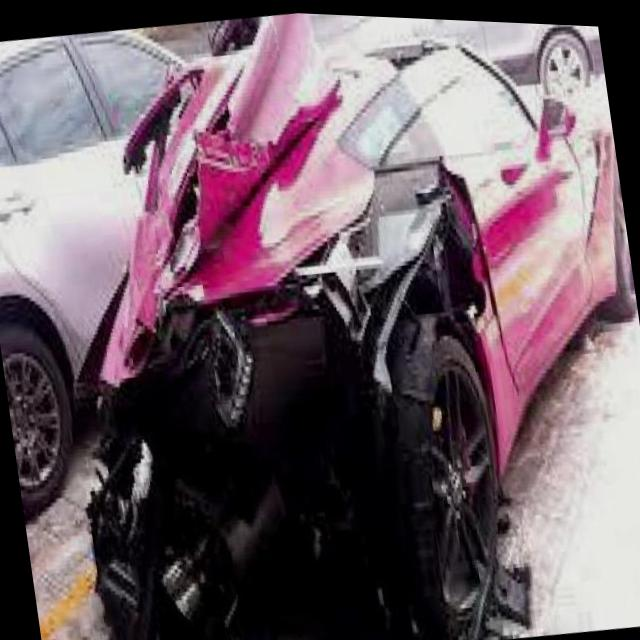Car-Damage: (16, 1, 541, 640)
